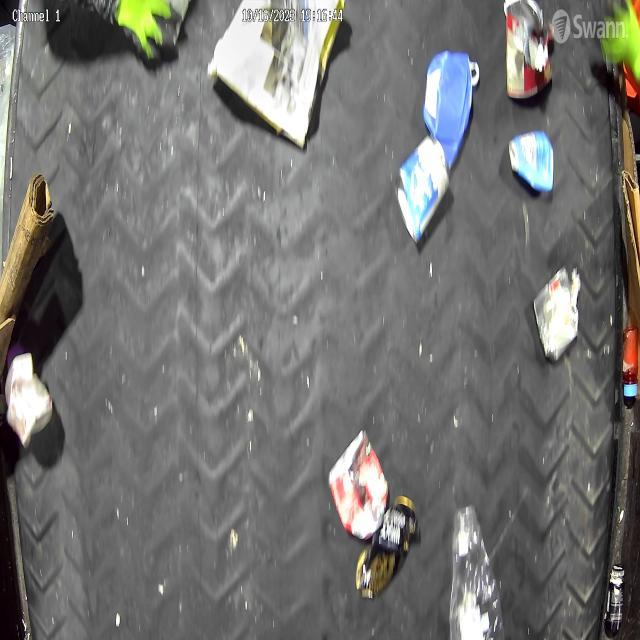can: (328, 428, 391, 544), (394, 135, 451, 245), (502, 0, 554, 105), (532, 262, 580, 364)
plastic_bottle: (447, 500, 508, 640)
